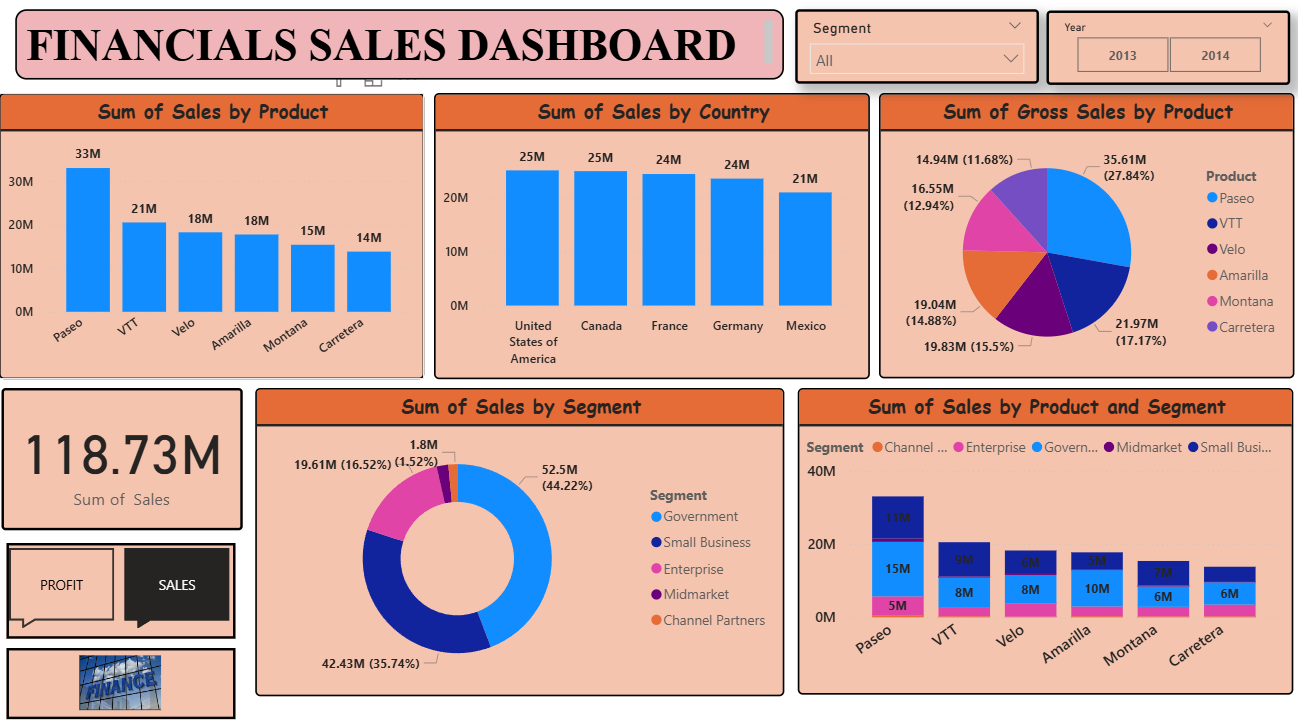

The page's visual inventory and layout, read from the dashboard file:
{"tool":"powerbi","page":{"name":"dashboard","canvas":[1280,720],"ordinal":0},"visuals":[{"type":"columnChart","fields":{"Y":["Sum(financials. Sales)"],"Category":["financials.Product"]},"box":[0,97.8,415.8,280],"z":0},{"type":"textbox","box":[15.9,15.9,752,68.5],"z":1000},{"type":"columnChart","fields":{"Y":["Sum(financials. Sales)"],"Category":["financials.Country"]},"box":[425.4,97.4,426.8,279.9],"z":2000},{"type":"pieChart","fields":{"Category":["financials.Product"],"Y":["Sum(financials.Gross Sales)"]},"box":[860.4,97.7,406.1,279.5],"z":3000},{"type":"columnChart","fields":{"Category":["financials.Product"],"Series":["financials.Segment"],"Y":["Sum(financials. Sales)"]},"box":[781.9,386.8,484.6,300.1],"z":5000},{"type":"slicer","fields":{"Values":["financials.Segment"]},"box":[778.6,15.7,238.6,72.9],"z":6000},{"type":"card","fields":{"Values":["Sum(financials. Sales)"]},"box":[2.4,386.4,236,139.4],"z":8000},{"type":"slicer","fields":{"Values":["financials.Year"]},"box":[1024.2,16.5,238.2,73],"z":9000},{"type":"donutChart","fields":{"Category":["financials.Segment"],"Y":["Sum(financials. Sales)"]},"box":[250.5,386.8,517.6,301.5],"z":13000},{"type":"bookmarkNavigator","box":[7.5,537.5,223.8,93.8],"z":15000},{"type":"image","box":[7.3,640.8,223.8,69.7],"z":18000}]}

Visuals, with their boxes in screenshot pixels (x1, y1, x2, y2), scaled from the page's 1280x720 canvas onto the 1298x720 screenshot:
columnChart - Sum(financials. Sales) x financials.Product: 0, 98, 422, 378
textbox: 16, 16, 779, 84
columnChart - Sum(financials. Sales) x financials.Country: 431, 97, 864, 377
pieChart - financials.Product x Sum(financials.Gross Sales): 872, 98, 1284, 377
columnChart - financials.Product x financials.Segment: 793, 387, 1284, 687
slicer - financials.Segment: 790, 16, 1032, 89
card - Sum(financials. Sales): 2, 386, 242, 526
slicer - financials.Year: 1039, 16, 1280, 90
donutChart - financials.Segment x Sum(financials. Sales): 254, 387, 779, 688
bookmarkNavigator: 8, 538, 235, 631
image: 7, 641, 234, 710
